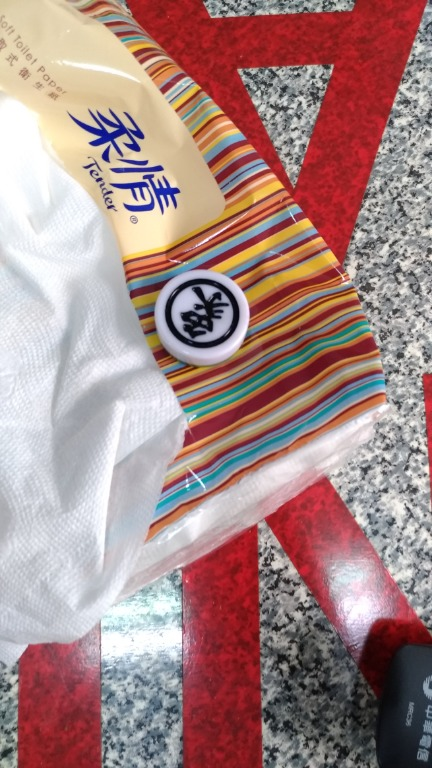b-elephant: (135, 256, 282, 386)
